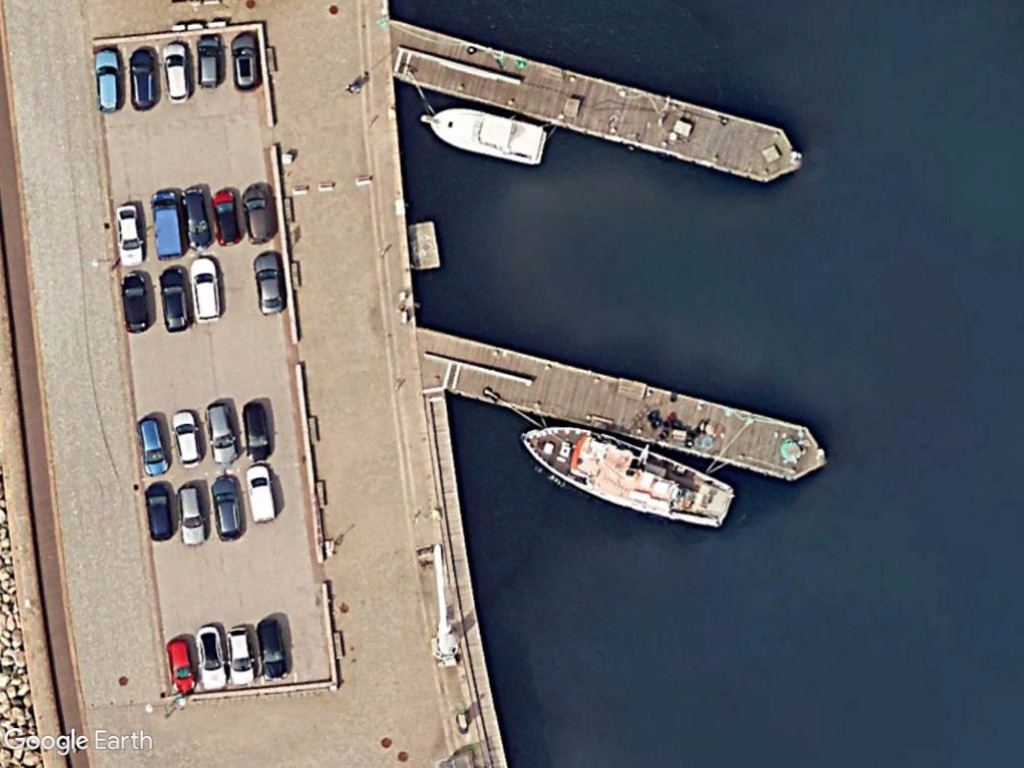boat: (514, 424, 739, 536), (418, 100, 554, 170)
car: (253, 613, 294, 686), (177, 182, 219, 253), (188, 253, 228, 326), (192, 621, 231, 694), (250, 249, 289, 320), (208, 468, 245, 541), (135, 414, 174, 482), (156, 263, 193, 334), (126, 45, 163, 115), (158, 38, 196, 106), (240, 182, 278, 249), (238, 399, 276, 465), (112, 200, 148, 269), (222, 622, 258, 691), (203, 400, 240, 467), (228, 31, 267, 94), (89, 44, 122, 117), (209, 186, 246, 250), (118, 269, 152, 336), (171, 404, 204, 472), (174, 480, 207, 548), (141, 482, 179, 541), (166, 635, 199, 699), (193, 32, 226, 92)
van: (147, 183, 187, 262), (244, 456, 277, 524)
